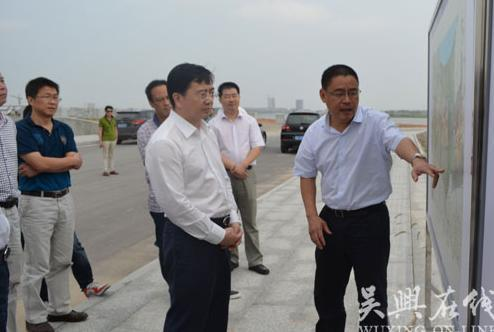boots: (47, 309, 88, 321), (82, 281, 110, 297), (26, 320, 54, 332), (249, 264, 270, 273), (230, 289, 241, 298)
person: (293, 64, 446, 332), (143, 63, 242, 332), (16, 79, 111, 303), (15, 77, 87, 332), (207, 82, 270, 276), (98, 106, 119, 176)
